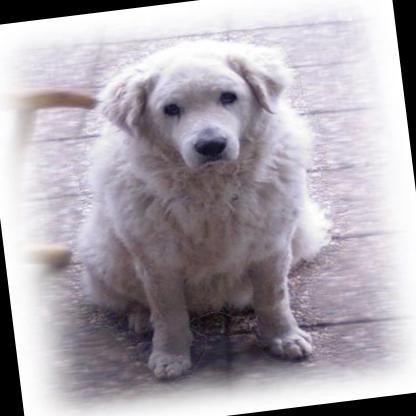kuvasz: (51, 26, 350, 387)
